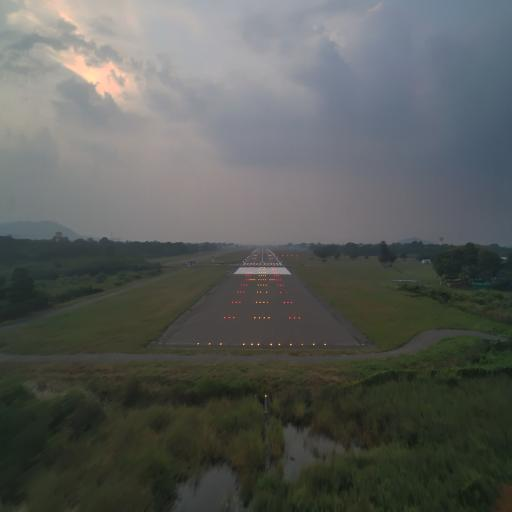off: (230, 341, 234, 347), (264, 342, 266, 348)
on: (256, 342, 261, 348), (196, 341, 200, 347), (300, 342, 304, 348), (219, 341, 222, 348), (242, 342, 246, 347), (250, 342, 254, 347), (288, 342, 293, 346), (278, 342, 281, 348), (232, 316, 236, 320), (262, 316, 266, 320), (208, 341, 211, 346), (223, 315, 226, 320), (293, 316, 296, 321), (298, 315, 301, 320), (228, 315, 230, 321), (258, 316, 261, 320), (288, 316, 291, 320), (313, 342, 315, 347), (268, 315, 270, 320), (270, 343, 272, 347), (324, 342, 326, 346), (254, 316, 256, 320)
